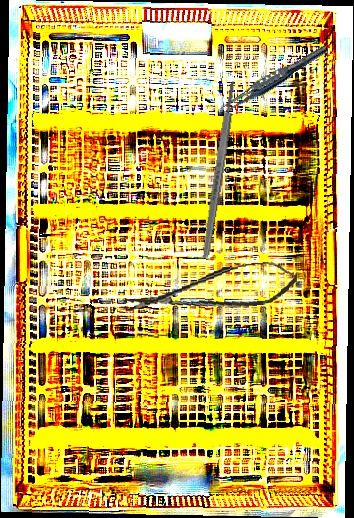Micro Scissor: (122, 258, 300, 322)
Scalpel Handle: (199, 79, 239, 260)
Tissue Forceps: (216, 40, 330, 120)
